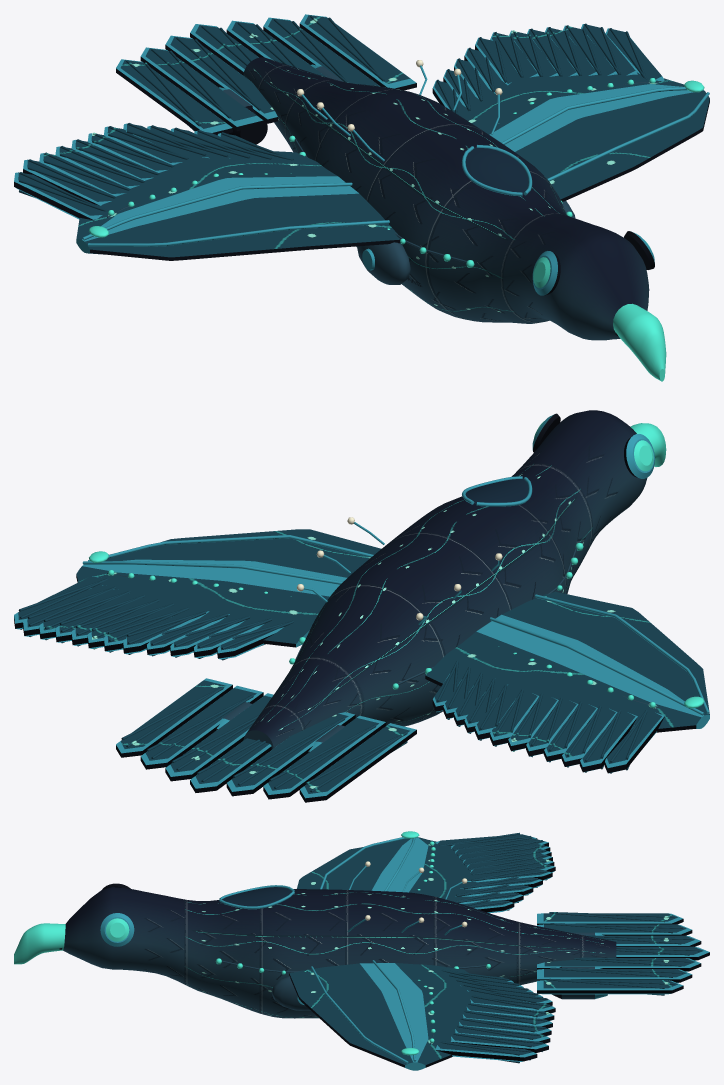
3 renders of one model, top to bottom at view 1: azimuth 30°, elevation 25°; view 2: azimuth 150°, elevation 25°; view 3: azimuth 270°, elevation 25°, orthographic. The views are drawn at different scales.
Parts seen in each view (by area): view 1: oxpecker_hull; view 2: oxpecker_hull; view 3: oxpecker_hull.
Boxes of the visible parts, box(x1,y1,x2,y2) form: oxpecker_hull: box(14, 14, 709, 381); oxpecker_hull: box(14, 410, 709, 802); oxpecker_hull: box(14, 831, 709, 1070).
Size of the model in its own units: 12.31 by 3.15 by 16.
Materials: 1 (1 with a texture image).
